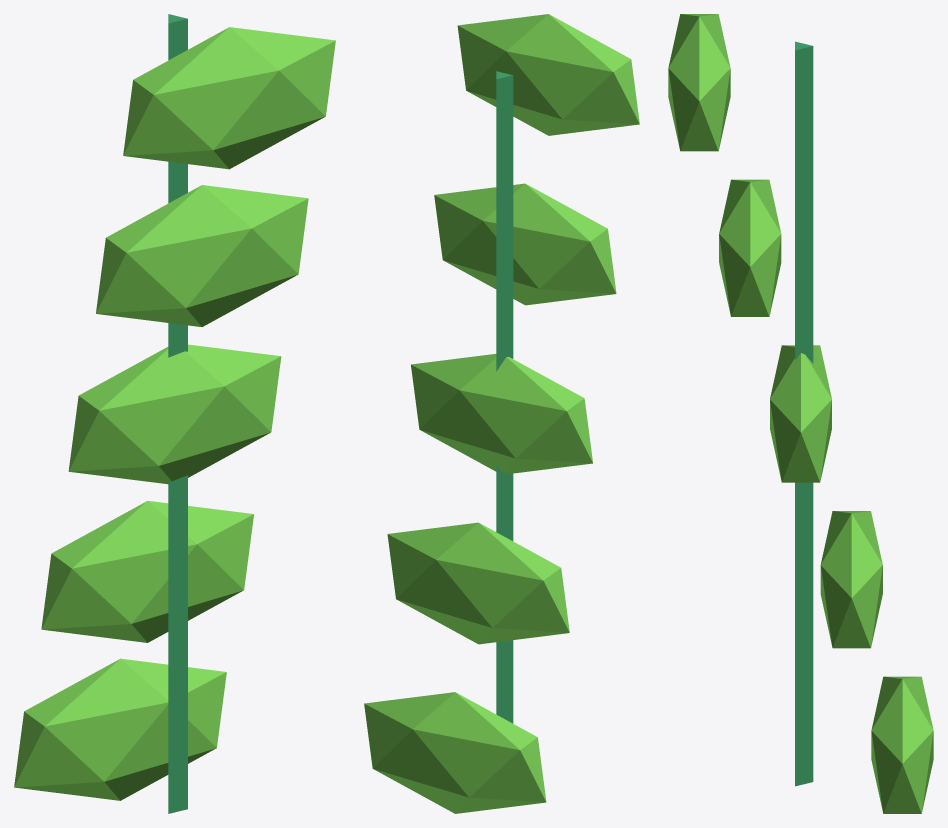
Rendered from vine.glb.
3 views of the same model, side by side, from view 1: azimuth 30°, elevation 25°; view 2: azimuth 150°, elevation 25°; view 3: azimuth 270°, elevation 25° (orthographic). The views are drawn at different scales.
Visible parts, largest first — view 1: vine; view 2: vine; view 3: vine.
Boxes of the visible parts, box(x1,y1,x2,y2) form: vine: box(14, 14, 335, 813); vine: box(364, 14, 639, 813); vine: box(668, 14, 933, 813).
Size of the model in its own units: 0.2254 by 0.864 by 0.2612.
